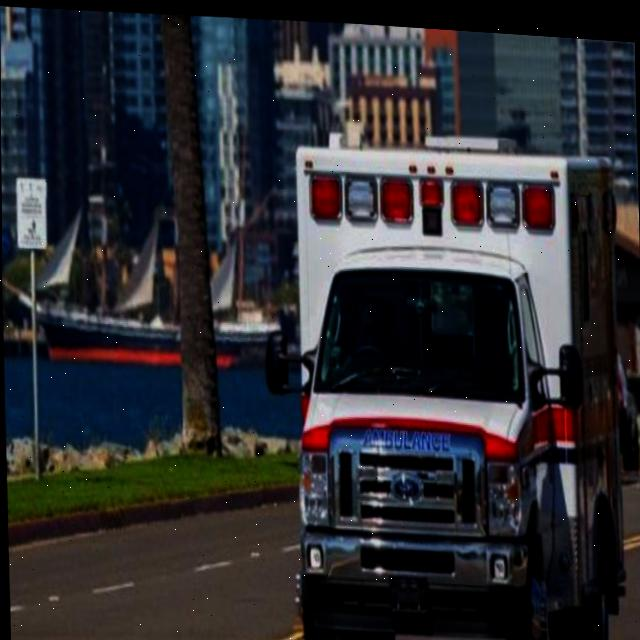emergency: (256, 98, 637, 640)
